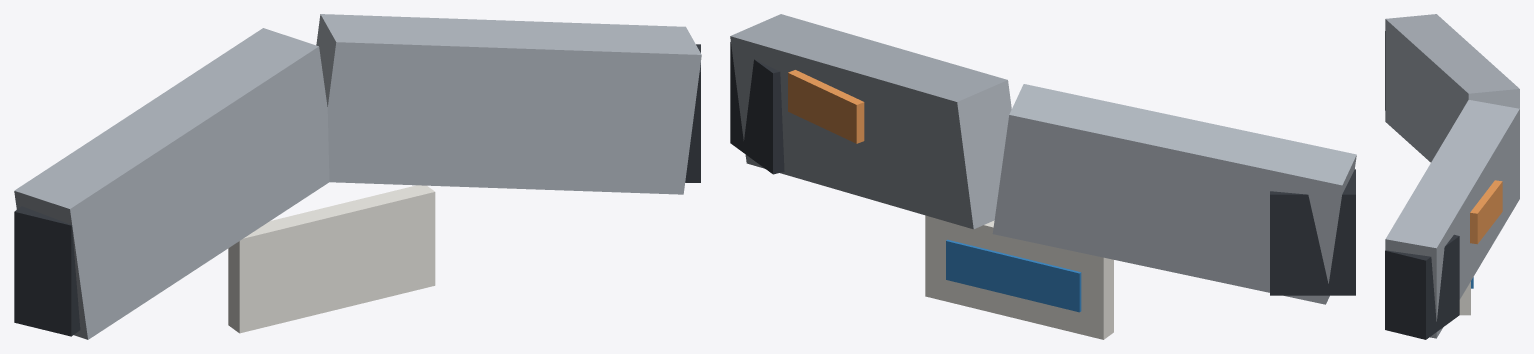
The model's file is FX_Scrap3_Bumper.fbx.
The picture shows the model from 3 angles, left to right: view 1: azimuth 30°, elevation 25°; view 2: azimuth 150°, elevation 25°; view 3: azimuth 270°, elevation 25°; orthographic projection. The views are drawn at different scales.
Parts seen in each view (by area): view 1: FX_Scrap3_Bumper; view 2: FX_Scrap3_Bumper; view 3: FX_Scrap3_Bumper.
Boxes of the visible parts, x1,y1,x2,y2 form: FX_Scrap3_Bumper: (14,14,701,339); FX_Scrap3_Bumper: (730,14,1356,339); FX_Scrap3_Bumper: (1385,14,1519,339).
Bounding box in the file's own units: 0.8416 × 0.3024 × 0.2002.
